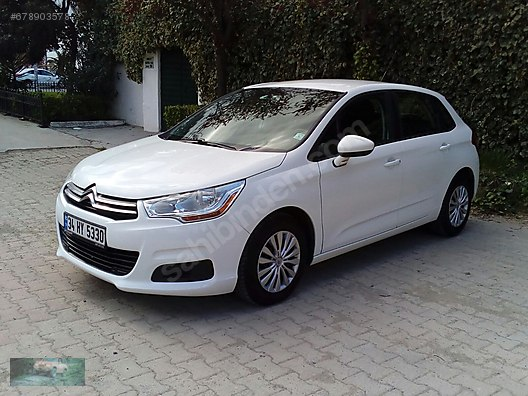c: (47, 52, 492, 307)
